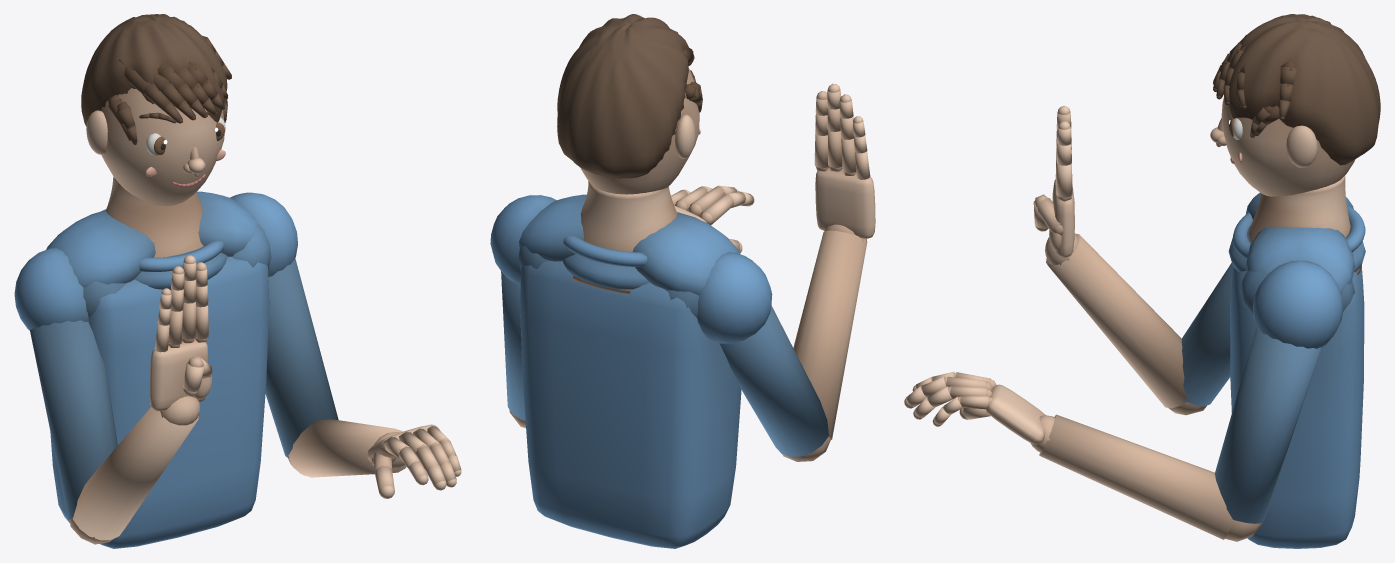
3 views of the same model, side by side, from view 1: azimuth 30°, elevation 25°; view 2: azimuth 150°, elevation 25°; view 3: azimuth 270°, elevation 25° (orthographic).
Visible parts, largest first — view 1: LSC_Body; view 2: LSC_Body; view 3: LSC_Body.
Boxes of the visible parts, <box> form: LSC_Body: <box>14,14,461,548</box>; LSC_Body: <box>490,14,875,548</box>; LSC_Body: <box>904,14,1380,548</box>.
Bounding box in the file's own units: 0.4304 × 0.713 × 0.6104.
